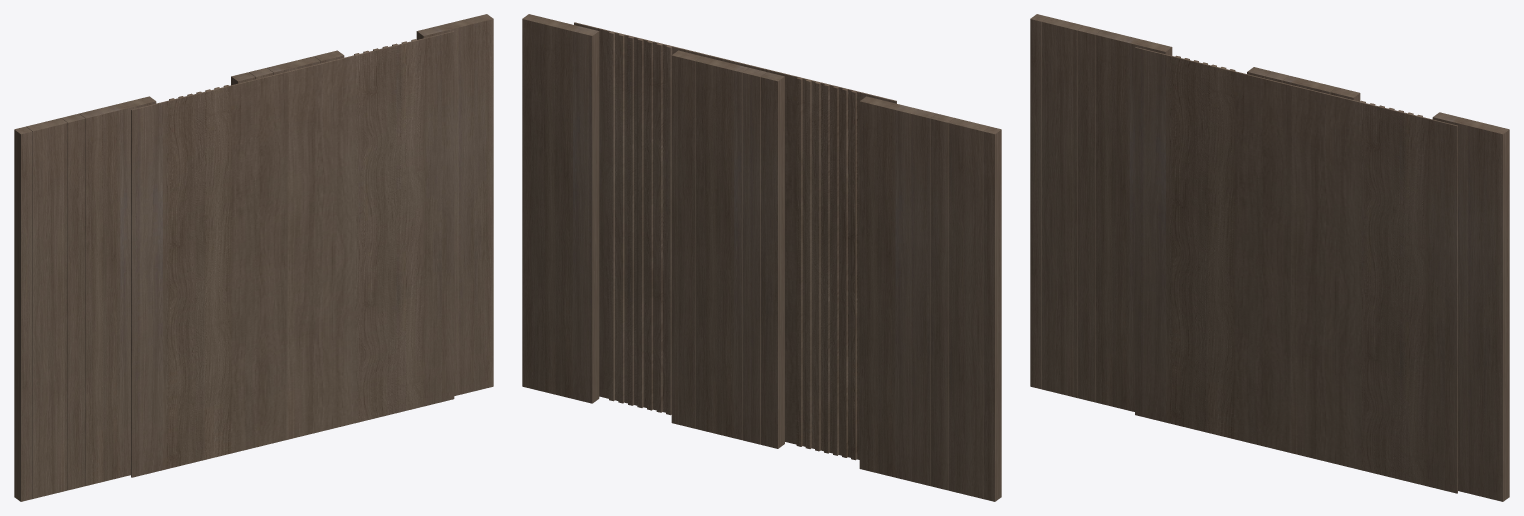
Rendered from wall.obj.
3 views of the same model, side by side, from view 1: azimuth 30°, elevation 25°; view 2: azimuth 150°, elevation 25°; view 3: azimuth 330°, elevation 25° (orthographic).
Visible parts, largest first — view 1: wall_panel_40_003; view 2: wall_panel_40_003; view 3: wall_panel_40_003.
Boxes of the visible parts, left/top/right/bottom form: wall_panel_40_003: left=14, top=14, right=493, bottom=501; wall_panel_40_003: left=522, top=14, right=1001, bottom=501; wall_panel_40_003: left=1030, top=14, right=1509, bottom=501.
Bounding box in the file's own units: 404 × 300 × 14.51.
Materials: 1 (1 with a texture image).
